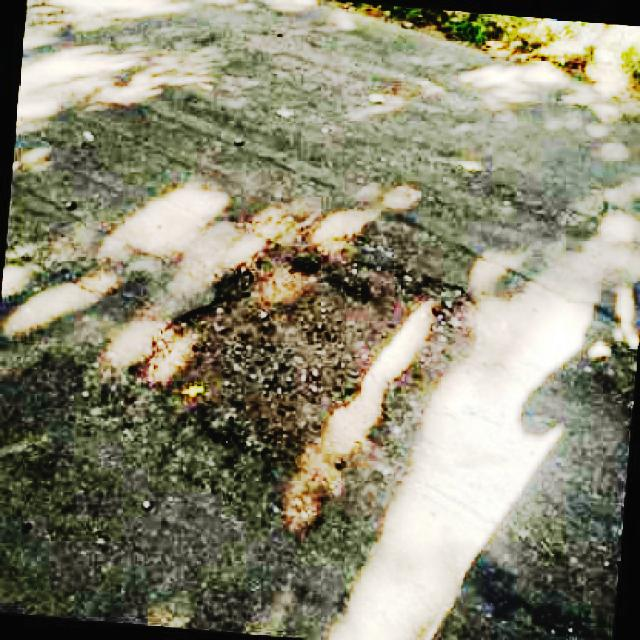pothole: (128, 232, 489, 528)
